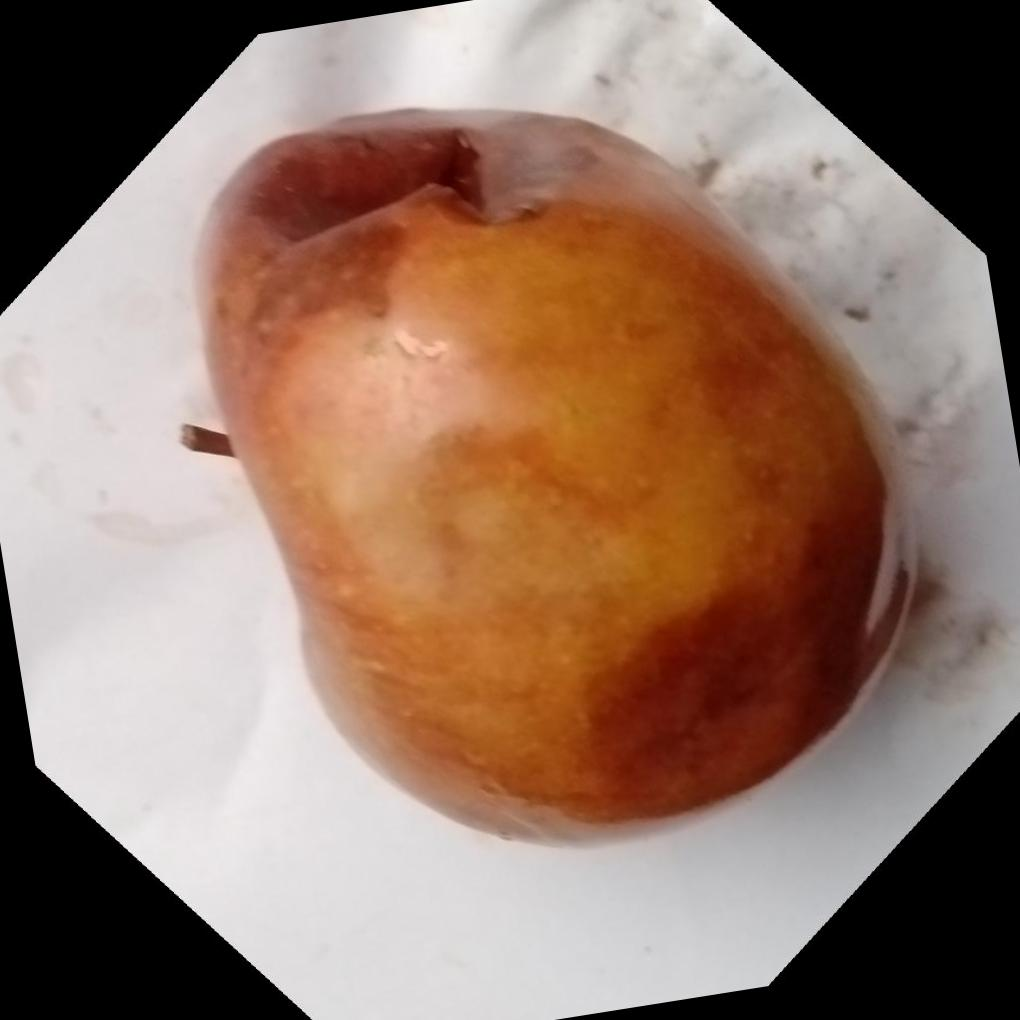FreshOrange: (187, 104, 915, 848)
